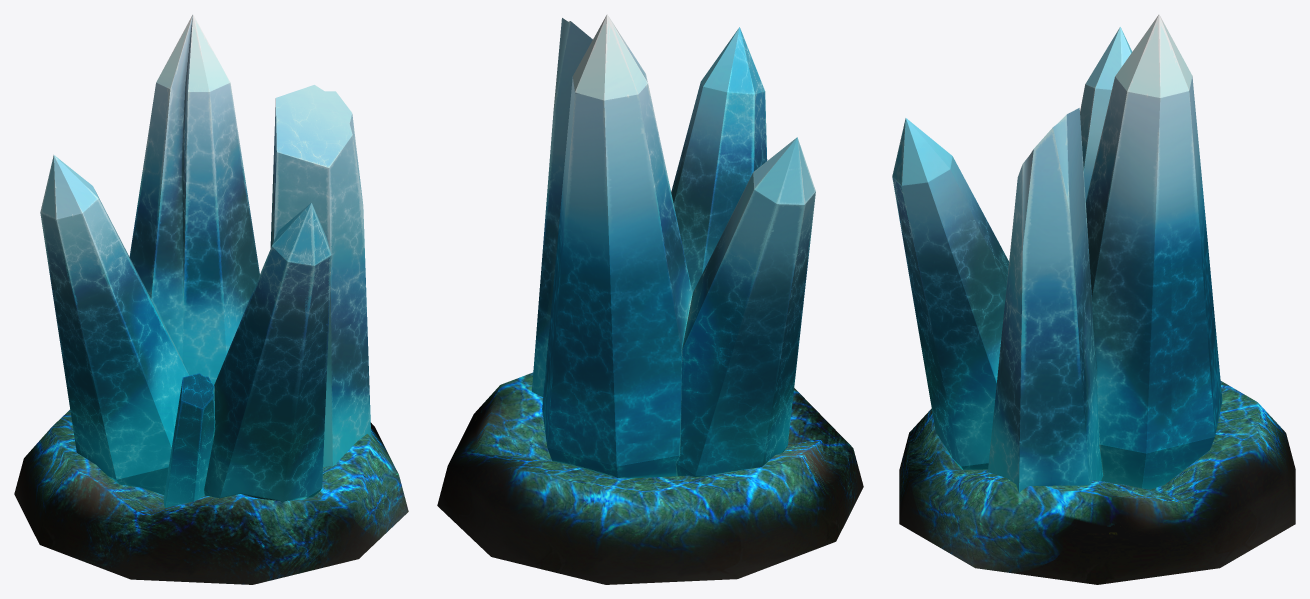
The model's file is Crystal_53.fbx.
The picture shows the model from 3 angles, left to right: view 1: azimuth 30°, elevation 25°; view 2: azimuth 150°, elevation 25°; view 3: azimuth 270°, elevation 25°; orthographic projection. The views are drawn at different scales.
Visible parts, largest first — view 1: Crystal_53; view 2: Crystal_53; view 3: Crystal_53.
Part boxes in pixels (x1,y1,x2,y2): Crystal_53: (14,14,408,584); Crystal_53: (437,14,863,584); Crystal_53: (892,14,1295,584).
Size of the model in its own units: 76 by 99.07 by 73.59.
